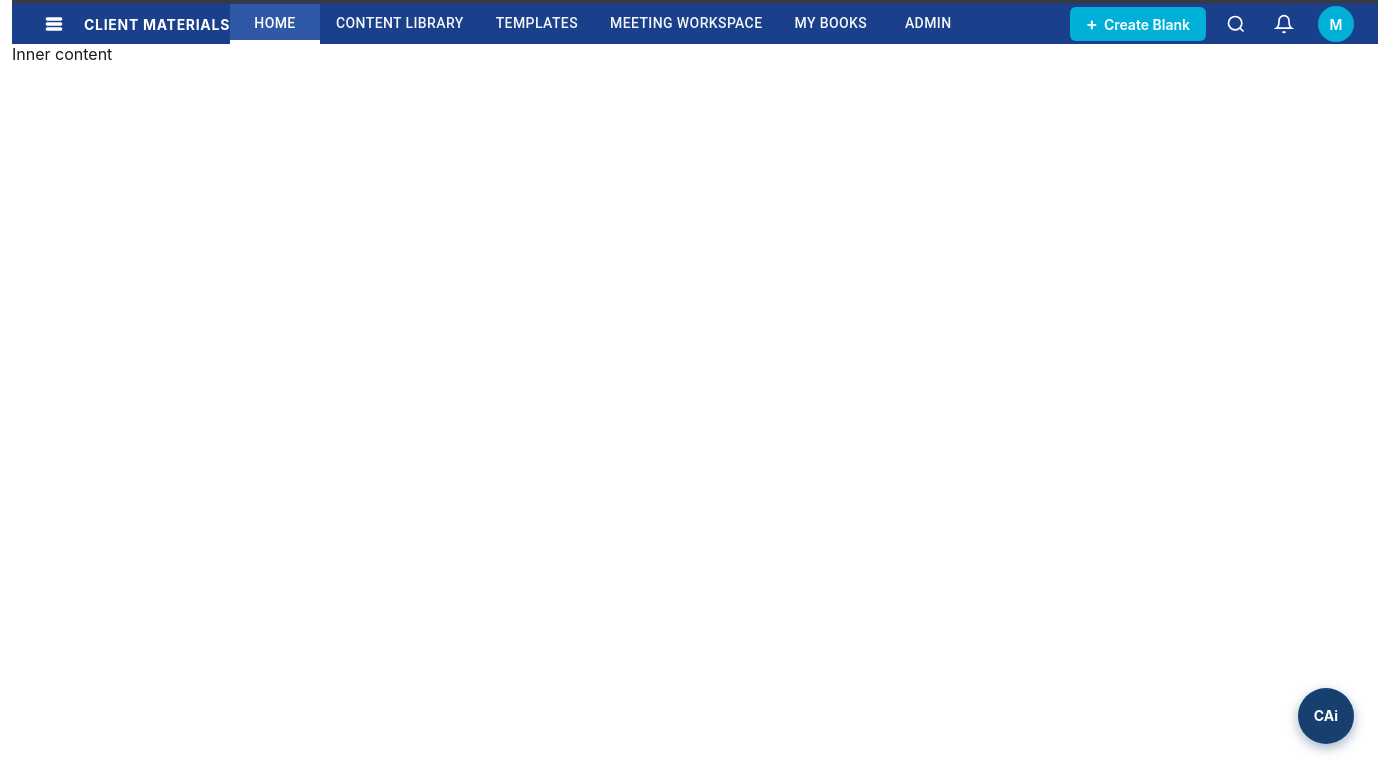
Test: Layout › renders header, main content and chat widget
Check: the text "CLIENT MATERIALS" is shown, box [84,16,230,32]
Check: the text "Inner content" is shown, box [12,44,112,64]
Note: Abre o chat e verifica o título
Click the button with aria-label "Open CAi Chat".
click(1326, 716)  # box [1298,688,1354,744]
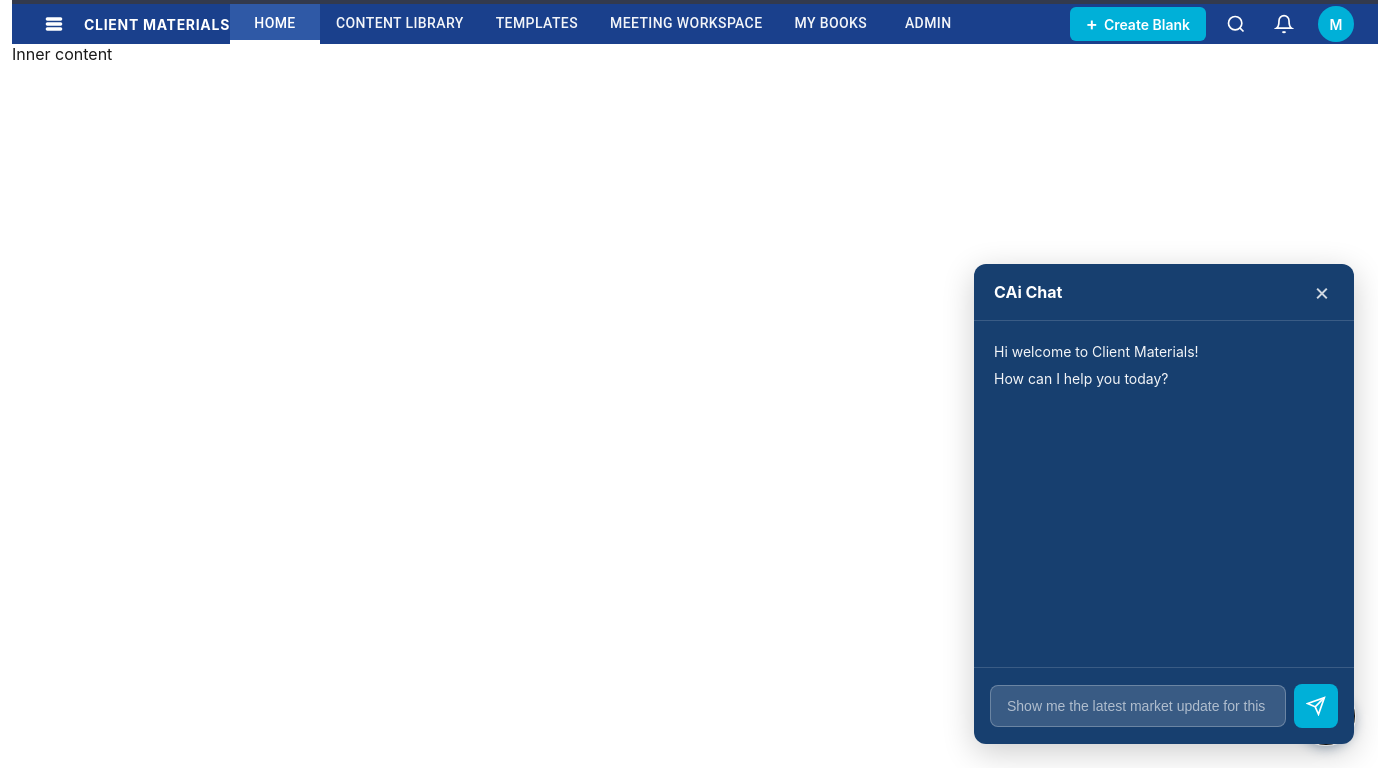
Check: the text "CAi Chat" is shown, box [994,282,1062,302]
